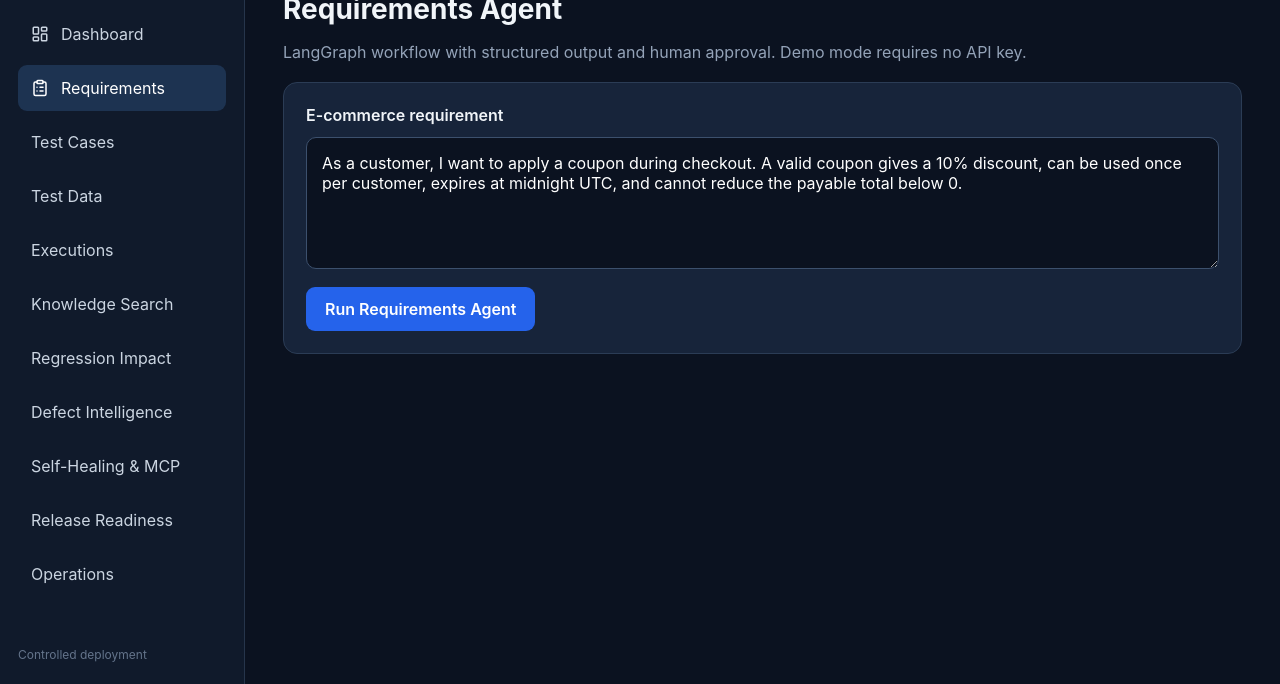
Test: failed approval retains review and allows retry
This screenshot has width=1280, height=684.
Click the button "Run Requirements Agent" at (421, 309), box x1=306 y1=287 x2=536 y2=331
(page scrolled)
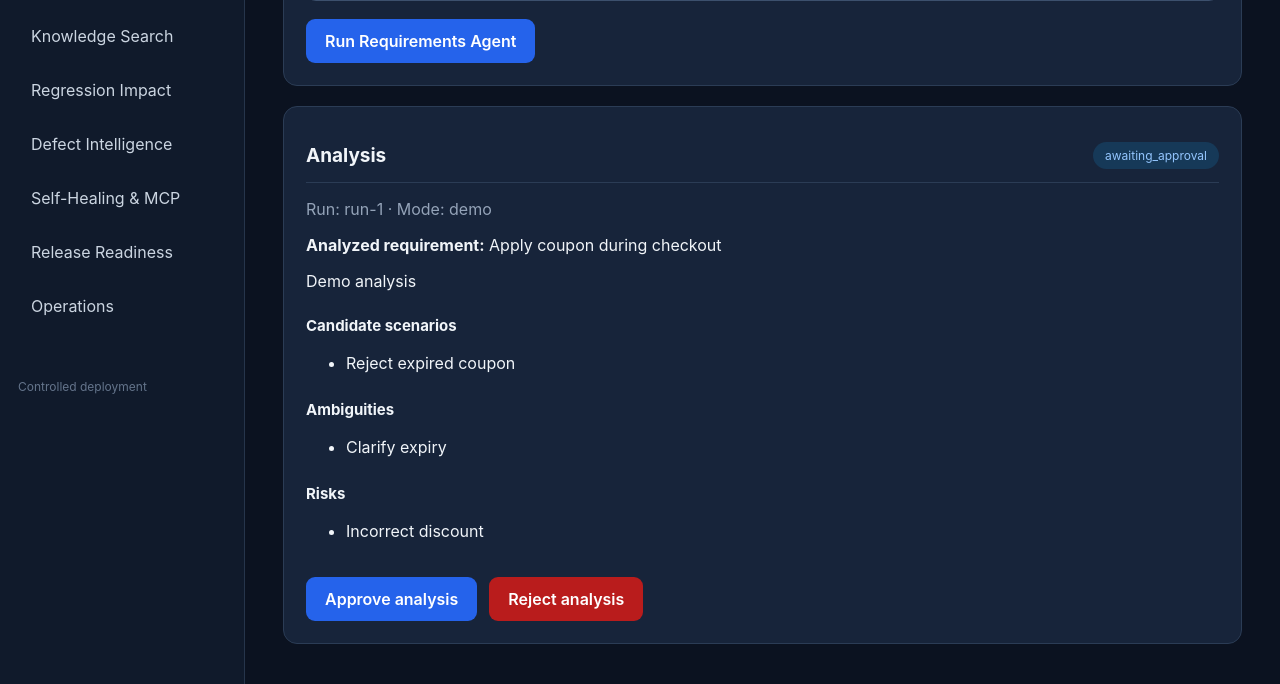
Click the button "Approve analysis" at (392, 599), box x1=306 y1=577 x2=477 y2=621
(page scrolled)
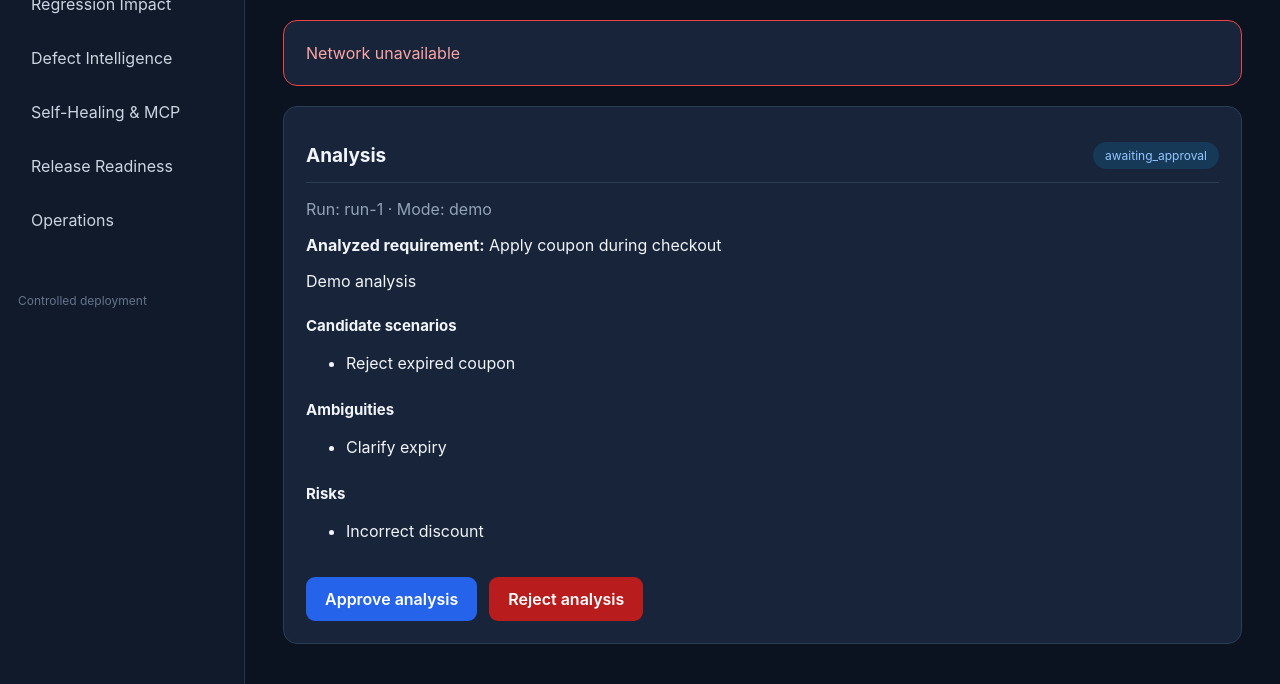
Check: the button "Approve analysis" is enabled, box x1=306 y1=577 x2=477 y2=621
Check: the message reads "Network unavailable", box x1=306 y1=43 x2=460 y2=63
